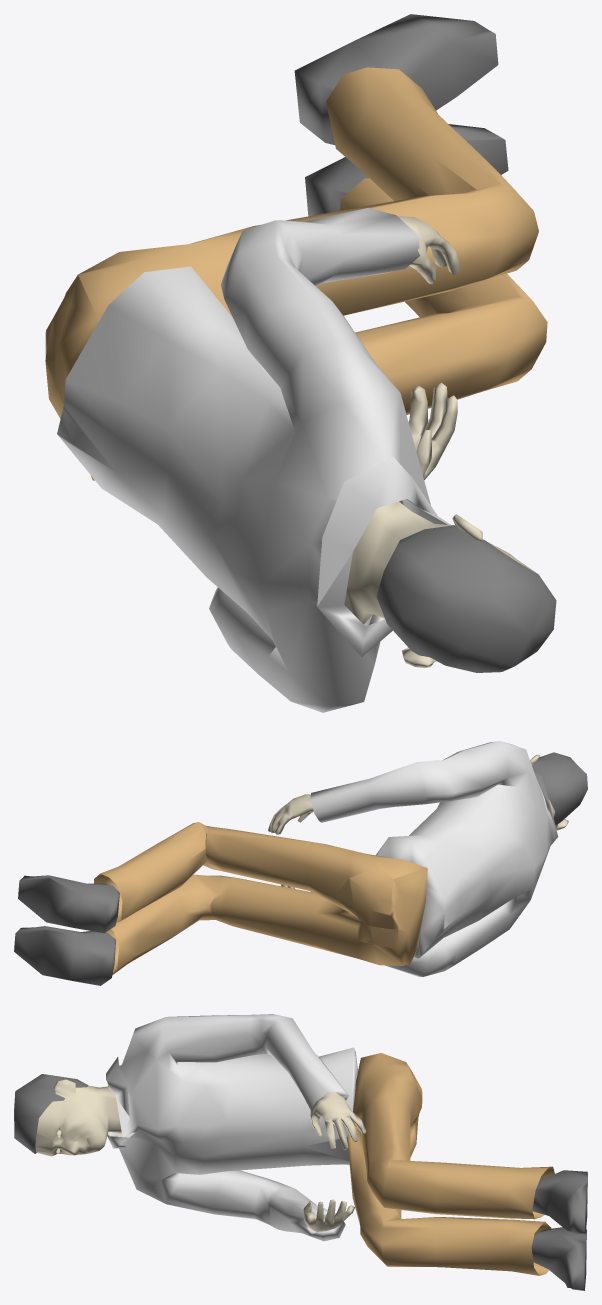
Rendered from seated_person.dae.
3 renders of one model, top to bottom at view 1: azimuth 30°, elevation 25°; view 2: azimuth 150°, elevation 25°; view 3: azimuth 270°, elevation 25°, orthographic. The views are drawn at different scales.
Parts seen in each view (by area): view 1: coords_ME_ID70_MA_Shape_003, coords_ME_ID98_MA_Shape_10, coords_ME_ID92_MA_Shape_9, coords_ME_ID106_MA_Shape_9, coords_ME_ID62_MA_Shape_8, coords_ME_ID78_MA_Shape_9, coords_ME_ID126_MA_Shape_8, coords_ME_ID86_MA_Shape_8; view 2: coords_ME_ID98_MA_Shape_10, coords_ME_ID70_MA_Shape_003, coords_ME_ID78_MA_Shape_9, coords_ME_ID106_MA_Shape_9, coords_ME_ID92_MA_Shape_9, coords_ME_ID86_MA_Shape_8; view 3: coords_ME_ID70_MA_Shape_003, coords_ME_ID98_MA_Shape_10, coords_ME_ID62_MA_Shape_8, coords_ME_ID106_MA_Shape_9, coords_ME_ID78_MA_Shape_9, coords_ME_ID92_MA_Shape_9, coords_ME_ID86_MA_Shape_8, coords_ME_ID126_MA_Shape_8.
Boxes of the visible parts, left/top/right/bottom form: coords_ME_ID70_MA_Shape_003: left=57, top=208, right=450, bottom=712; coords_ME_ID98_MA_Shape_10: left=45, top=67, right=547, bottom=480; coords_ME_ID92_MA_Shape_9: left=376, top=525, right=556, bottom=672; coords_ME_ID106_MA_Shape_9: left=294, top=14, right=498, bottom=144; coords_ME_ID62_MA_Shape_8: left=344, top=501, right=537, bottom=667; coords_ME_ID78_MA_Shape_9: left=305, top=124, right=508, bottom=216; coords_ME_ID126_MA_Shape_8: left=408, top=382, right=457, bottom=479; coords_ME_ID86_MA_Shape_8: left=397, top=216, right=460, bottom=284; coords_ME_ID98_MA_Shape_10: left=94, top=822, right=427, bottom=974; coords_ME_ID70_MA_Shape_003: left=310, top=741, right=558, bottom=976; coords_ME_ID78_MA_Shape_9: left=14, top=926, right=115, bottom=985; coords_ME_ID106_MA_Shape_9: left=18, top=875, right=119, bottom=933; coords_ME_ID92_MA_Shape_9: left=532, top=752, right=587, bottom=825; coords_ME_ID86_MA_Shape_8: left=268, top=794, right=313, bottom=834; coords_ME_ID70_MA_Shape_003: left=106, top=1014, right=357, bottom=1241; coords_ME_ID98_MA_Shape_10: left=347, top=1053, right=554, bottom=1275; coords_ME_ID62_MA_Shape_8: left=35, top=1079, right=137, bottom=1156; coords_ME_ID106_MA_Shape_9: left=532, top=1170, right=587, bottom=1234; coords_ME_ID78_MA_Shape_9: left=531, top=1227, right=586, bottom=1290; coords_ME_ID92_MA_Shape_9: left=14, top=1074, right=88, bottom=1153; coords_ME_ID86_MA_Shape_8: left=310, top=1092, right=366, bottom=1149; coords_ME_ID126_MA_Shape_8: left=303, top=1199, right=354, bottom=1231.
Size of the model in its own units: 10.13 by 15.09 by 6.3.
